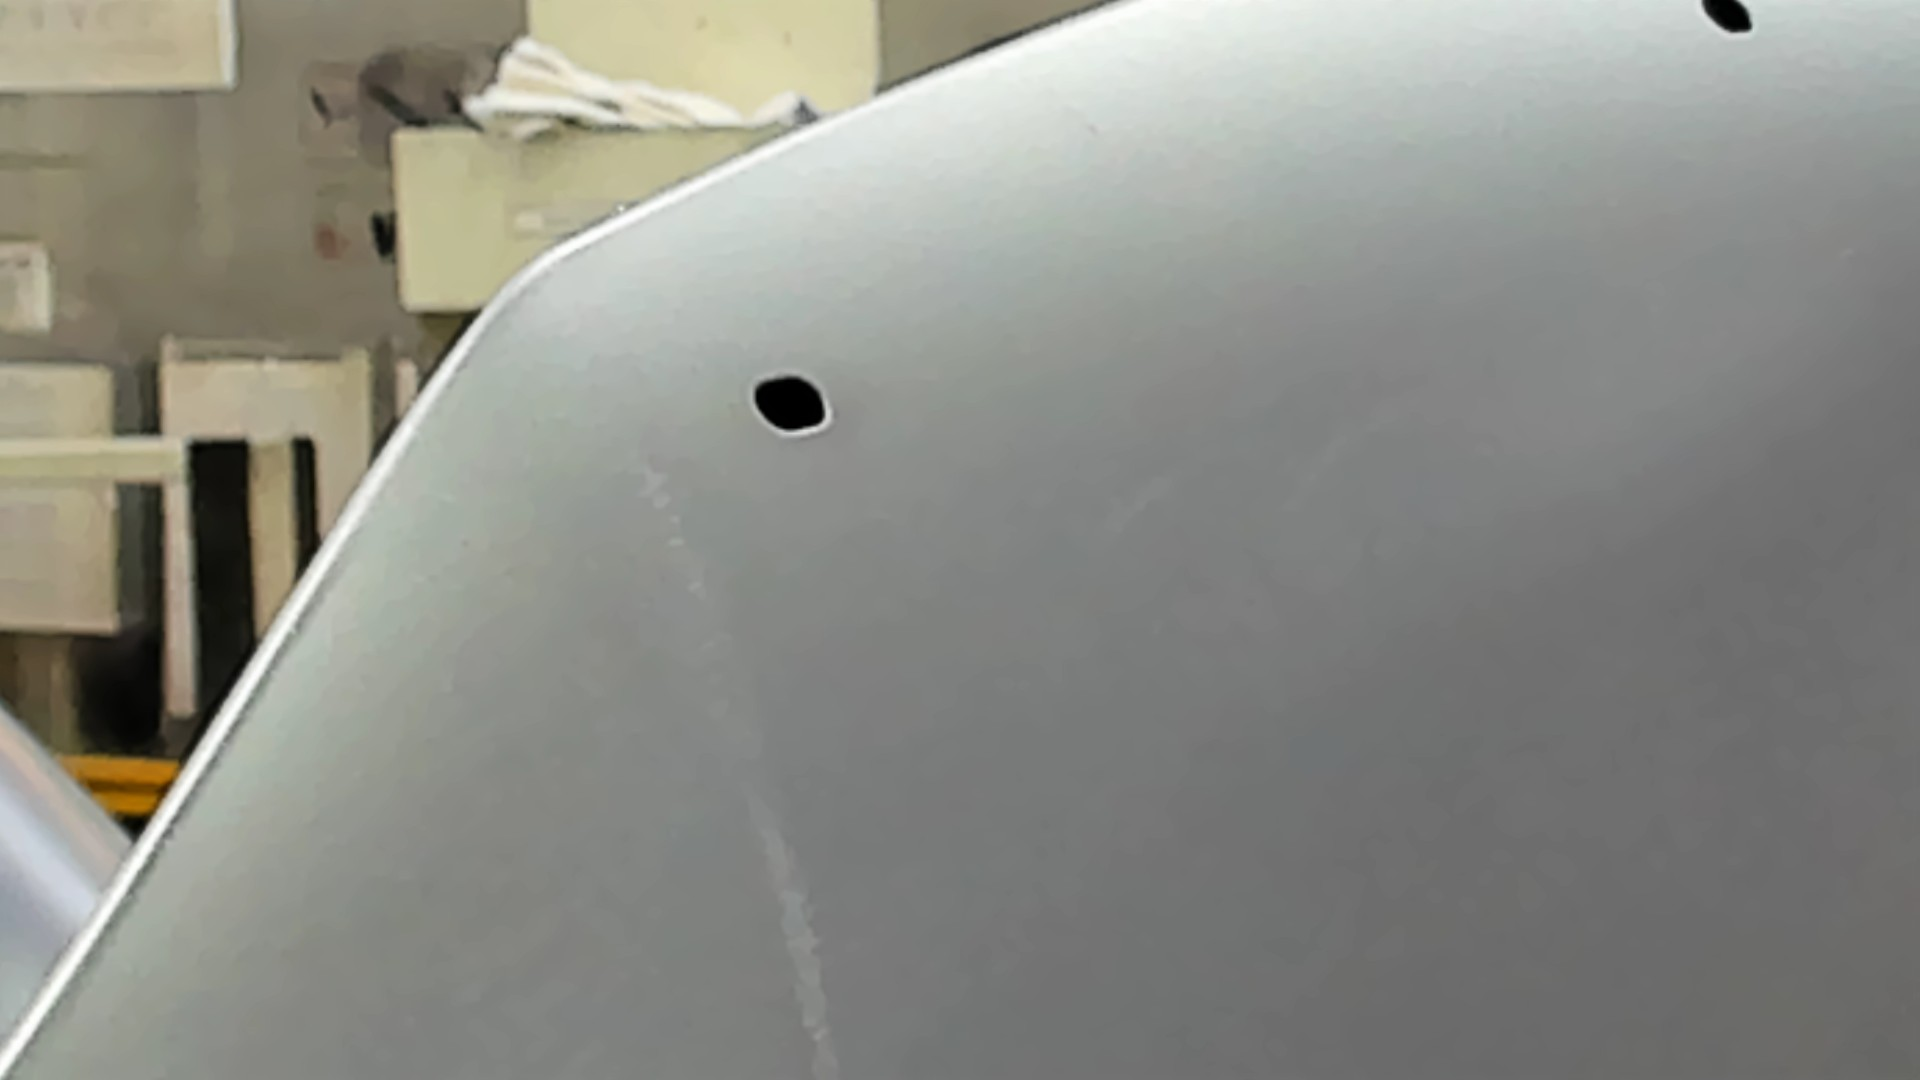amorfo: (748, 371, 837, 436), (1689, 1, 1760, 37)
